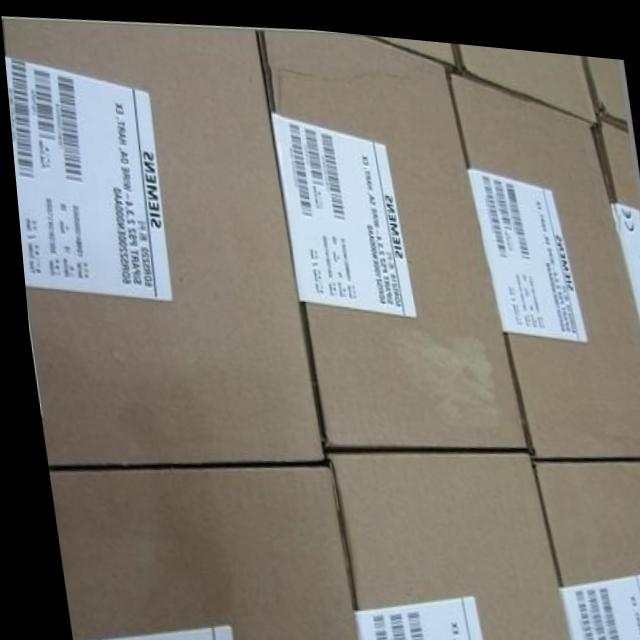box: (1, 19, 316, 465), (257, 26, 520, 442), (448, 63, 640, 448), (42, 461, 347, 640), (320, 444, 562, 640), (525, 449, 640, 640), (456, 35, 596, 115), (592, 108, 640, 326), (582, 44, 627, 119), (370, 28, 455, 55)
